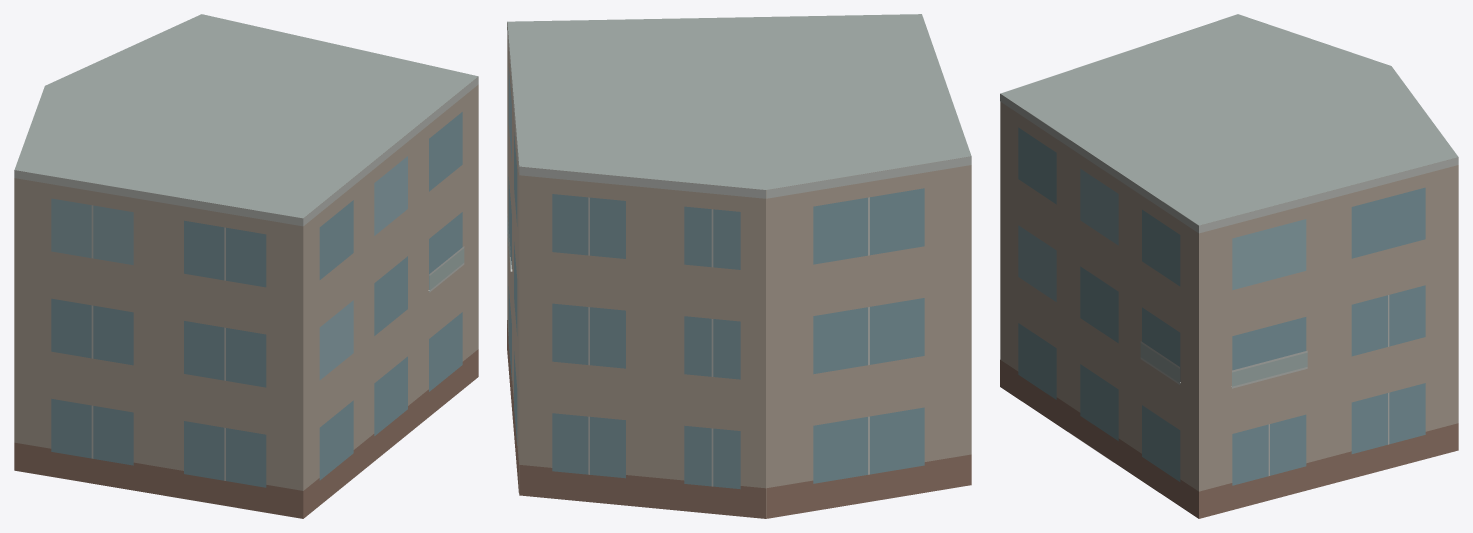
File: survey-upis-32489924.glb
3 renders of one model, left to right at view 1: azimuth 30°, elevation 25°; view 2: azimuth 150°, elevation 25°; view 3: azimuth 270°, elevation 25°, orthographic. The views are drawn at different scales.
Visible parts, largest first — view 1: survey-upis-32489924.tmp; view 2: survey-upis-32489924.tmp; view 3: survey-upis-32489924.tmp.
Boxes of the visible parts, x1,y1,x2,y2 form: survey-upis-32489924.tmp: (14, 14, 478, 518); survey-upis-32489924.tmp: (507, 14, 971, 518); survey-upis-32489924.tmp: (1000, 14, 1458, 518).
Size of the model in its own units: 14.17 by 9.15 by 12.97.
